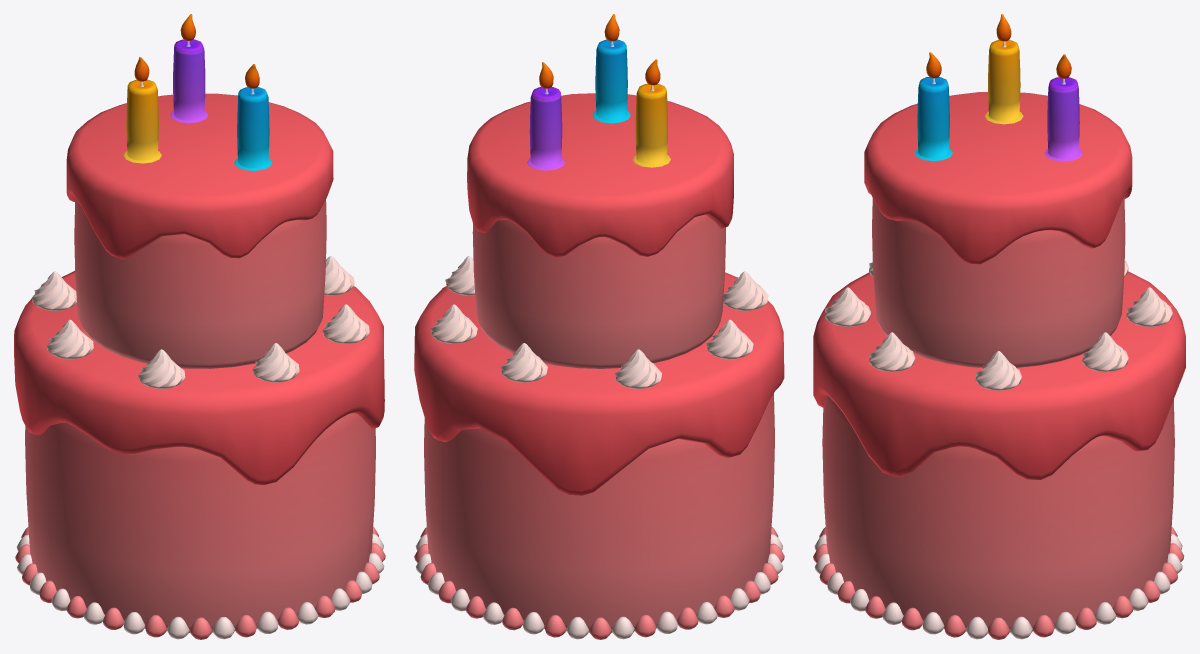
File: Cake_Strawberry_V1_00.fbx
The picture shows the model from 3 angles, left to right: view 1: azimuth 30°, elevation 25°; view 2: azimuth 150°, elevation 25°; view 3: azimuth 270°, elevation 25°; orthographic projection.
Visible parts, largest first — view 1: Cake_Strawberry_V1_00; view 2: Cake_Strawberry_V1_00; view 3: Cake_Strawberry_V1_00.
Part boxes in pixels (x1,y1,x2,y2): Cake_Strawberry_V1_00: (14, 14, 385, 639); Cake_Strawberry_V1_00: (414, 14, 784, 639); Cake_Strawberry_V1_00: (813, 14, 1185, 639).
Size of the model in its own units: 65.77 by 102 by 65.84.
